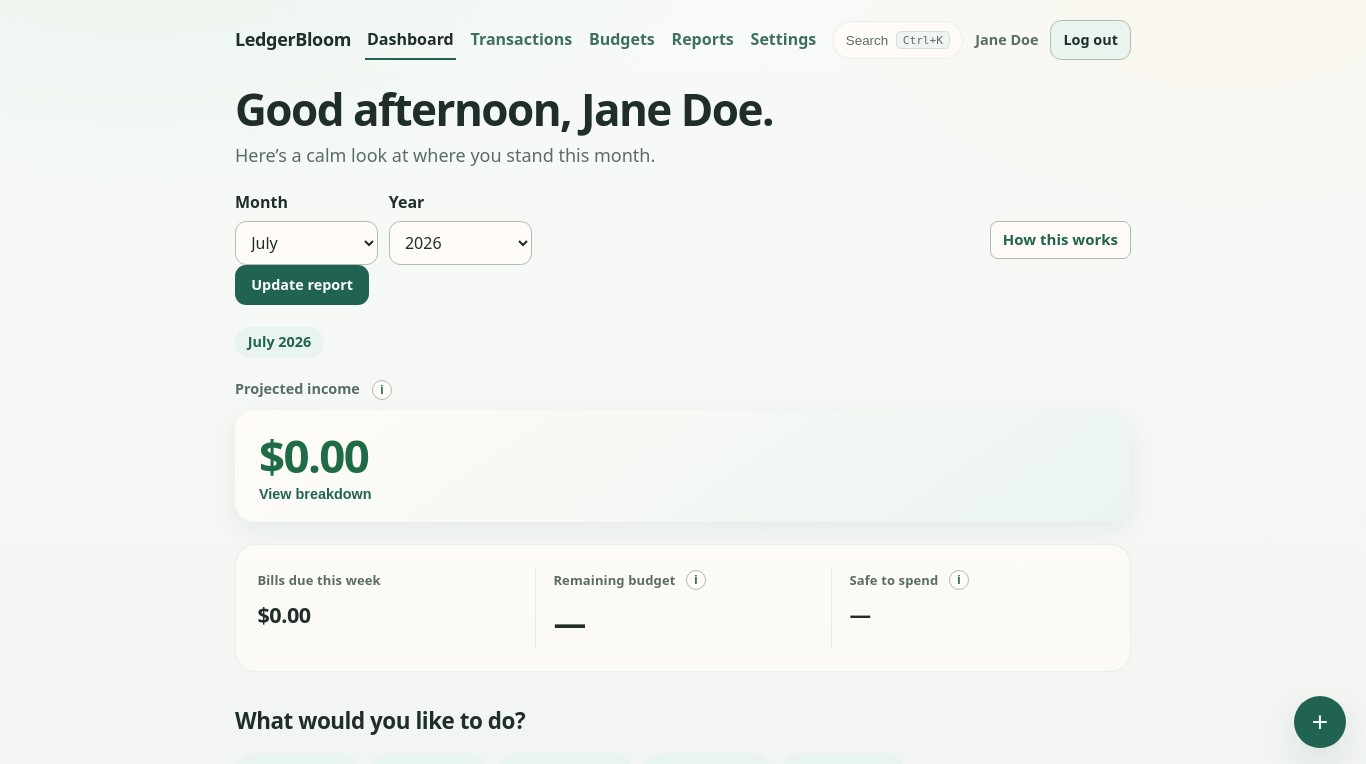
Test: Auth routes › logs out and returns the nav to the anonymous state
Expected: the text "Jane Doe" is shown, [975, 29, 1038, 51]
Click the button "Log out". click: (1091, 40)
box: [1050, 20, 1131, 60]
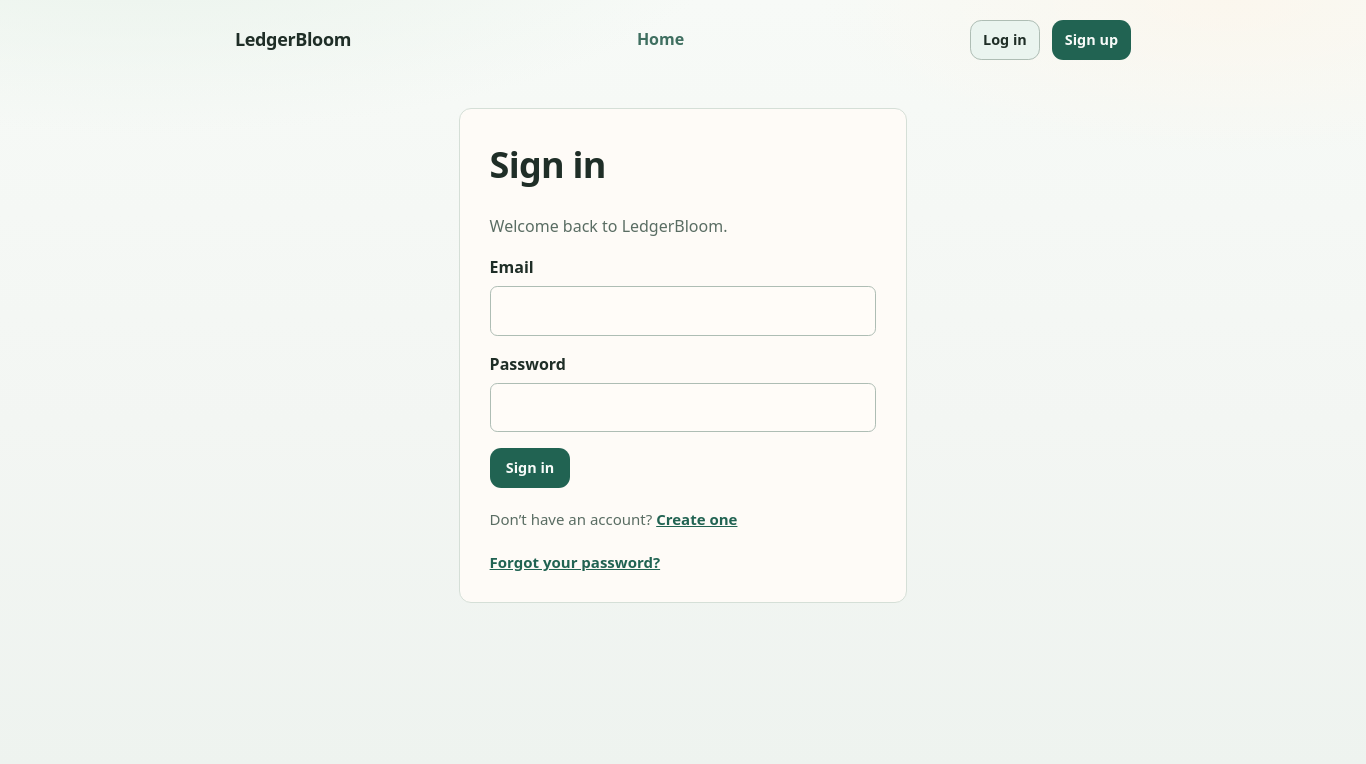
Result: the link "Log in" is shown at [970, 20, 1040, 60]
